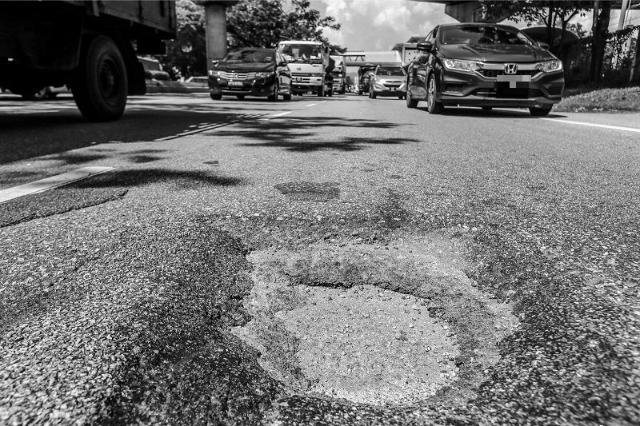Pothole: (218, 276, 467, 410)
